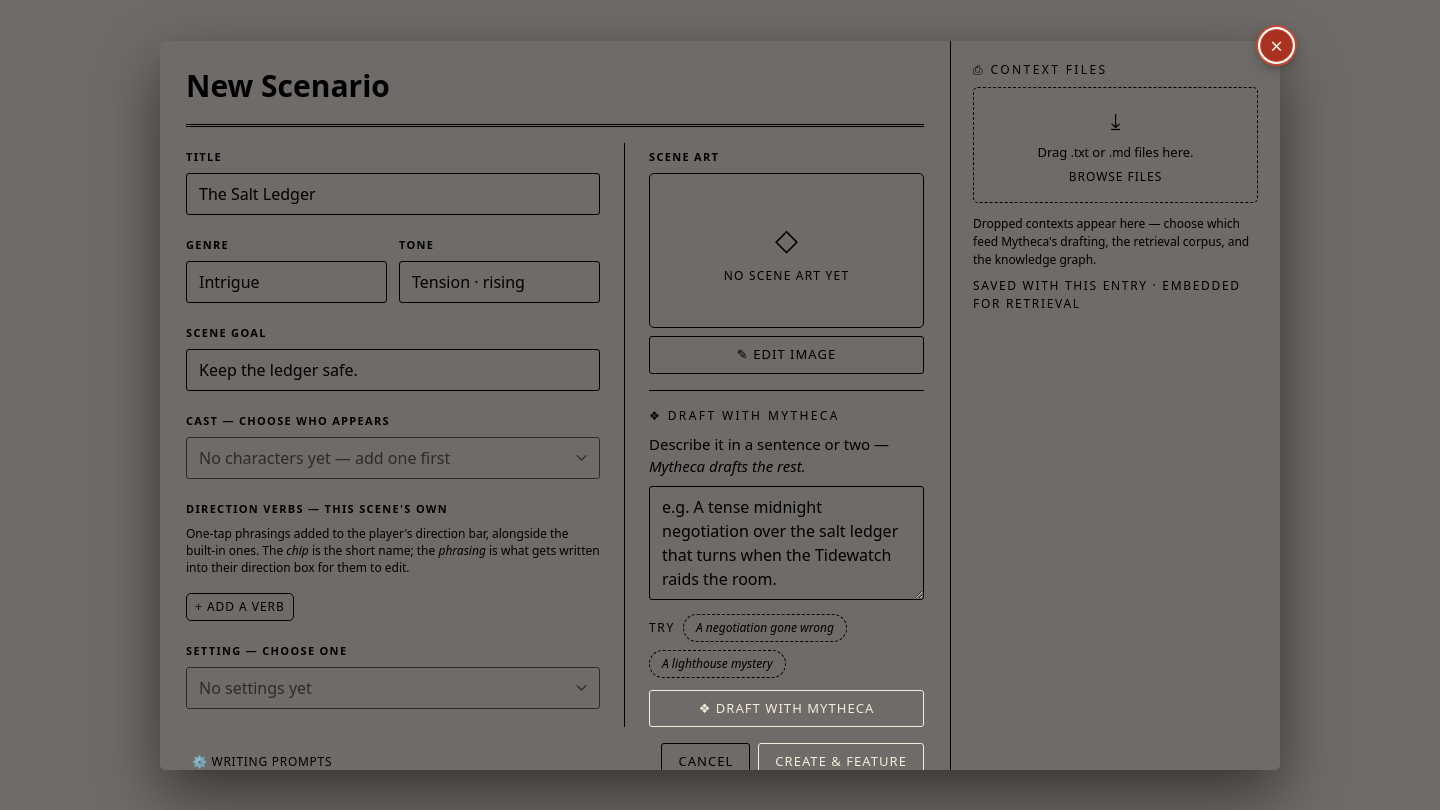
Test case: EntityModal (scenario) › opens the SceneArtModal when Edit image is clicked
This screenshot has width=1440, height=810.
Click the button "✎ Edit image" at (786, 355), box [649, 336, 924, 374]
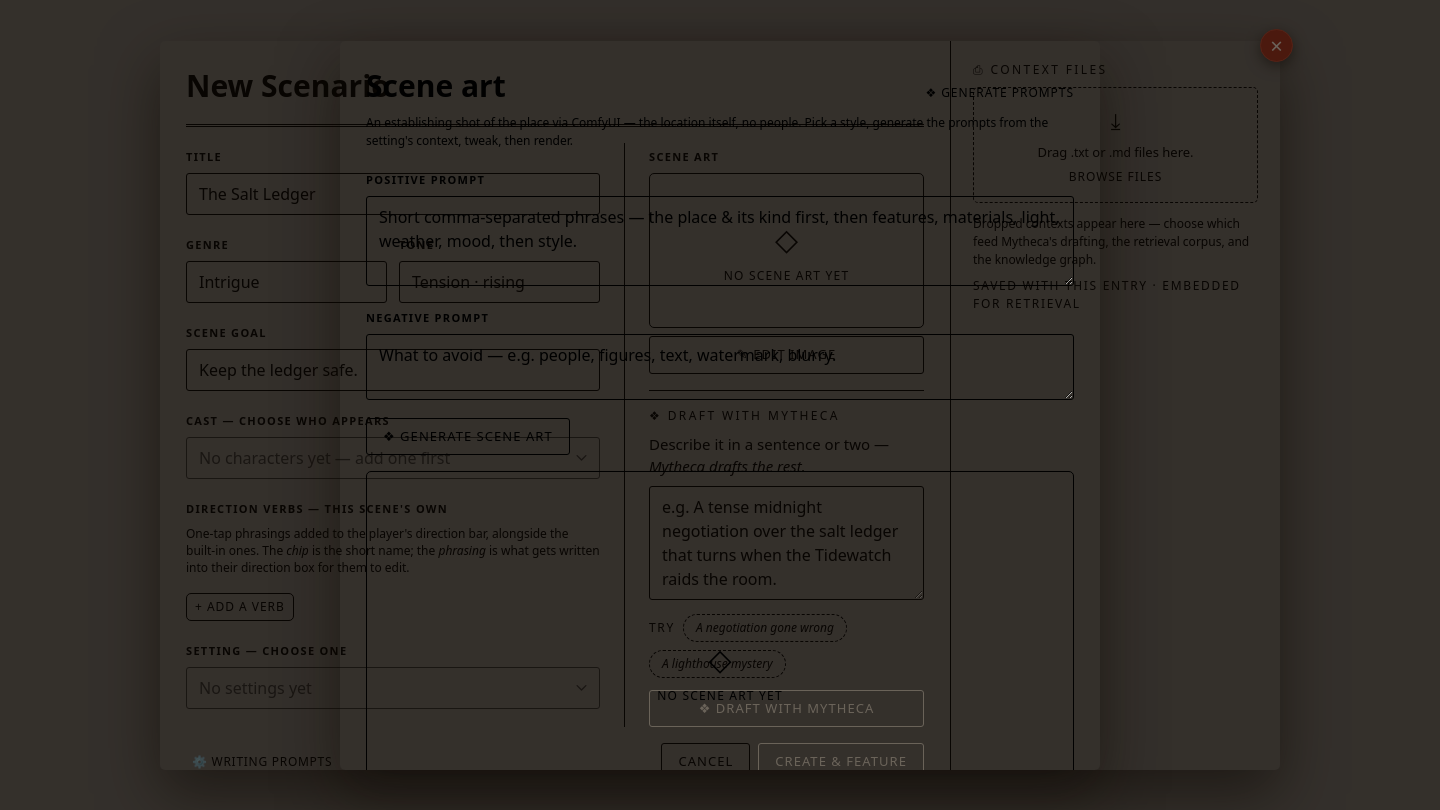
Expected: the text "Scene art" is shown, [366, 62, 506, 108]
